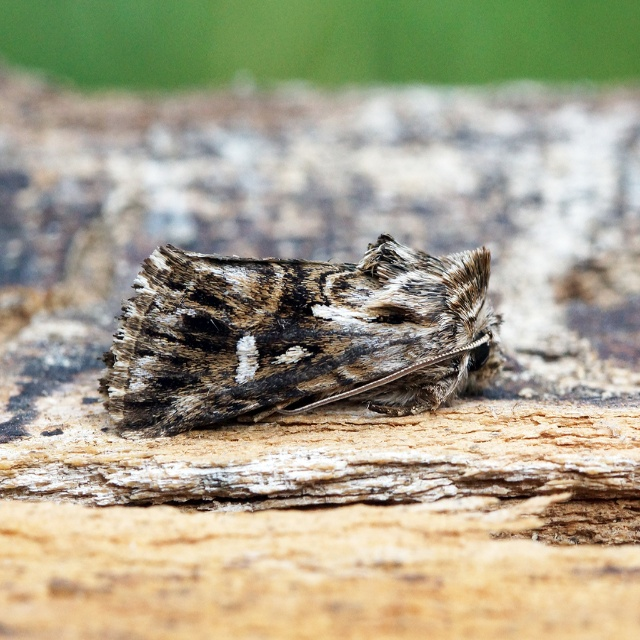Moths and butterflies: (98, 233, 515, 435)
